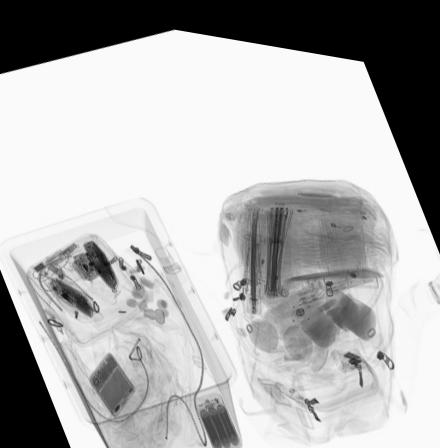Powerbank: (193, 384, 243, 446)
